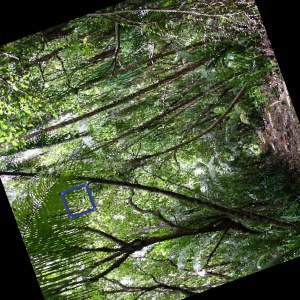square: (58, 181, 97, 221)
